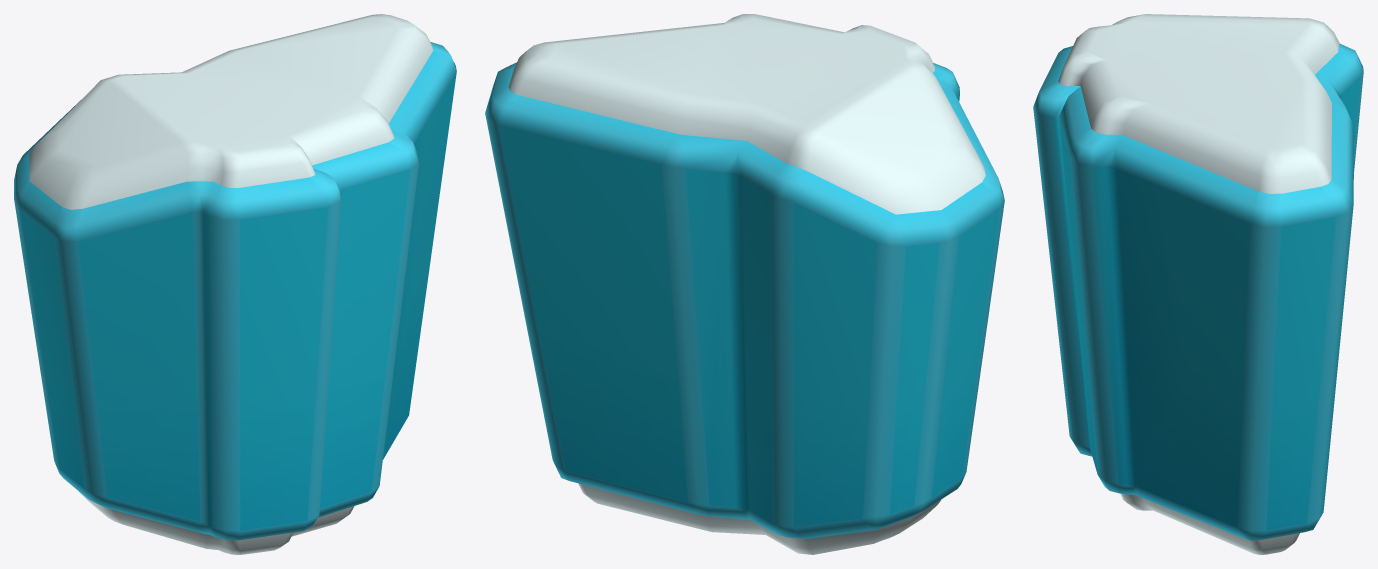
The model's file is ice_008.fbx.
The picture shows the model from 3 angles, left to right: view 1: azimuth 30°, elevation 25°; view 2: azimuth 150°, elevation 25°; view 3: azimuth 270°, elevation 25°; orthographic projection. The views are drawn at different scales.
Visible parts, largest first — view 1: ice_008; view 2: ice_008; view 3: ice_008.
Boxes of the visible parts, bbox=[...] form: ice_008: bbox=[14, 14, 456, 554]; ice_008: bbox=[485, 14, 1004, 554]; ice_008: bbox=[1033, 14, 1363, 554].
Size of the model in its own units: 383 by 247 by 352.
